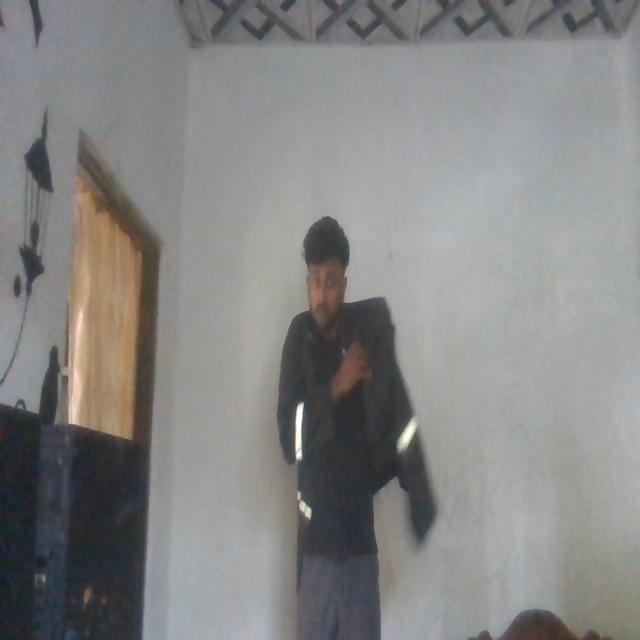Jacket_Wearer: (251, 287, 437, 563)
Person: (269, 209, 417, 640)
